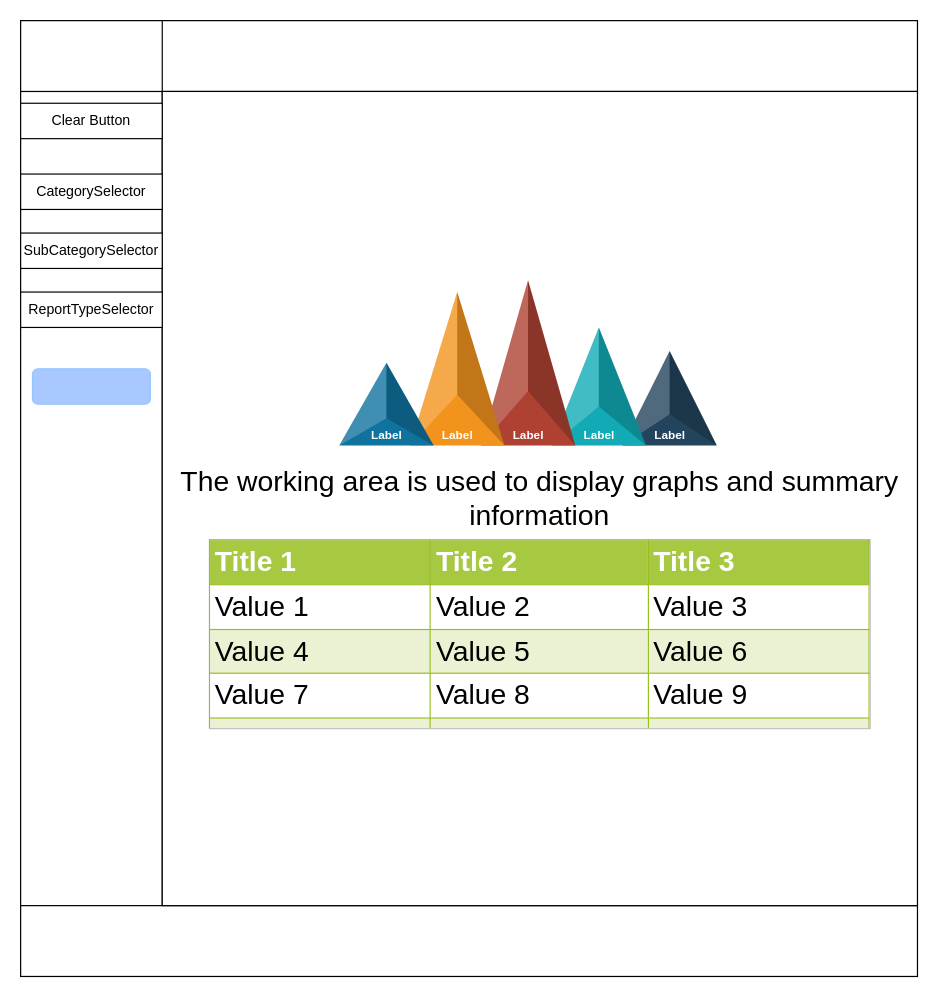
This 938x997 diagram has some shape labels left out. Each missing label, with the box of its shape:
CreateReport/Button: (31, 368, 150, 404)
Footer(Placement of legal information. Cookie agreement): (19, 904, 917, 976)
Home Buton / logo: (19, 19, 162, 91)
